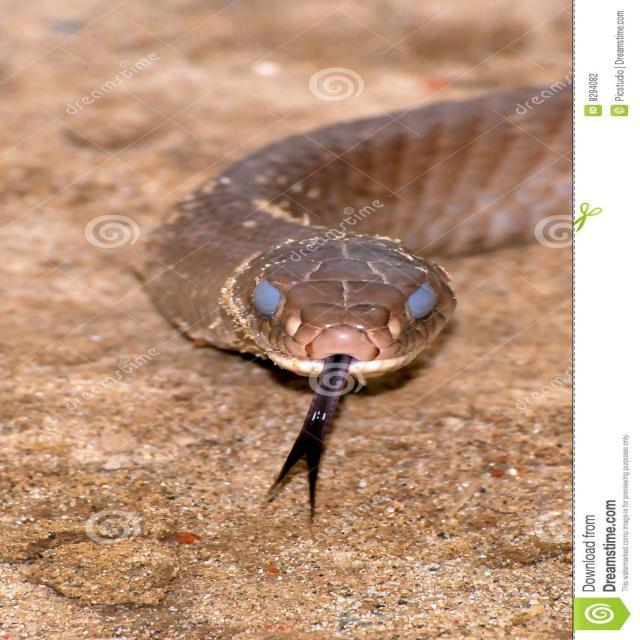Snake: (133, 80, 572, 520)
